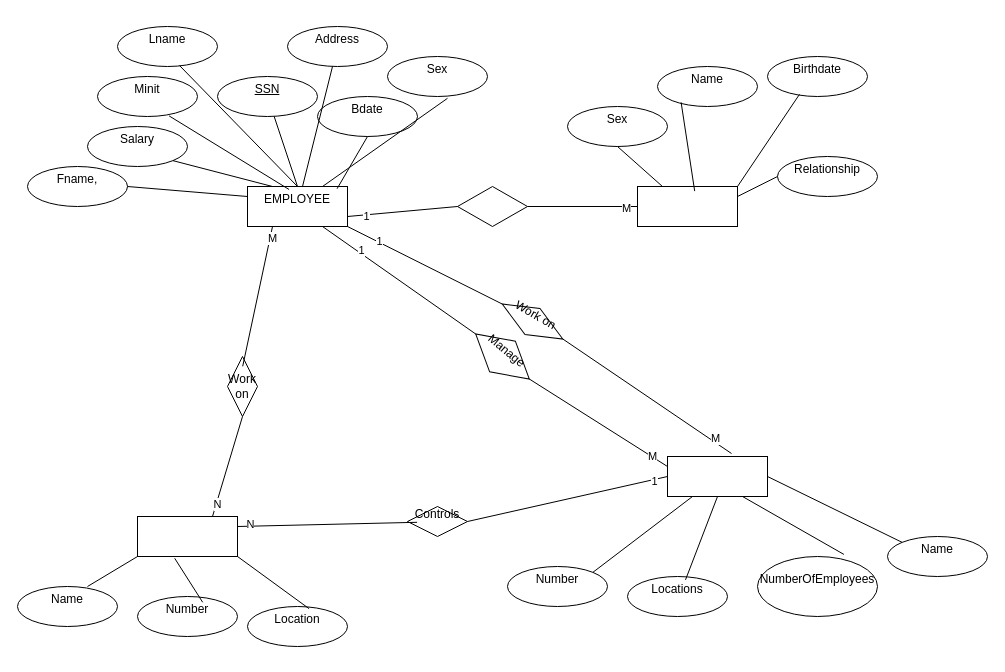
Image size: 1005x672. Some labels were removed from this diagram. The shapes that lost their labels are listed below. From the top down, each one's box as (x1, y1, x2, y2) in pixels, then its label:
(456, 186, 528, 226): related to
(636, 186, 738, 226): DEPENDENT
(666, 456, 768, 496): DEPARTMENT
(136, 516, 238, 556): PROJECT
